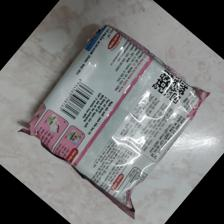Haohao: (20, 25, 209, 221)
